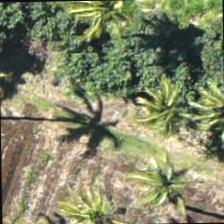Kelapa_Sawit: (126, 66, 218, 158), (122, 141, 214, 223), (68, 0, 160, 60), (50, 172, 142, 223), (177, 66, 223, 158)
